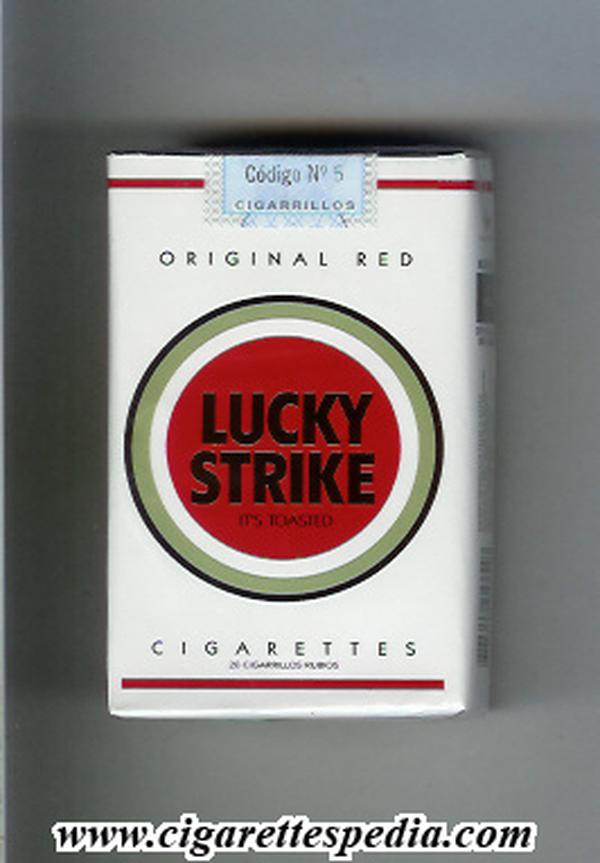lucky_strike_red: (110, 157, 474, 731)
